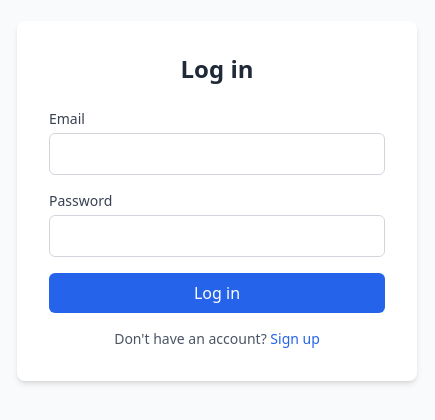
Test: LoginPage › shows an error message and does not redirect on failed login
This screenshot has width=435, height=420.
In the field labelled "Email": x=217, y=154 x1=49 y1=133 x2=385 y2=175, type "alice@example.com"
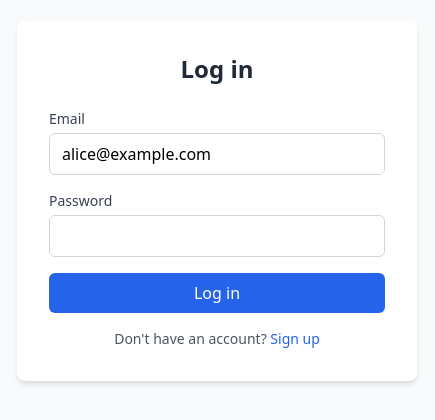
In the password field labelled "Password": x=217, y=236 x1=49 y1=215 x2=385 y2=257, type "wrongpass"
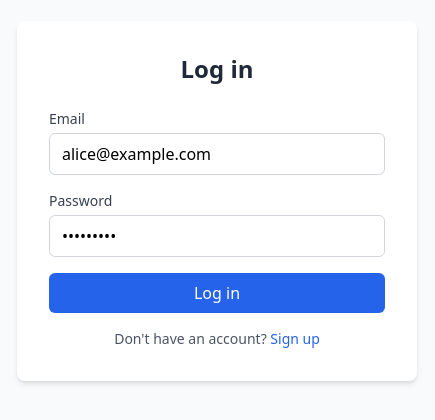
Click the button "Log in": x=217, y=293 x1=49 y1=273 x2=385 y2=313
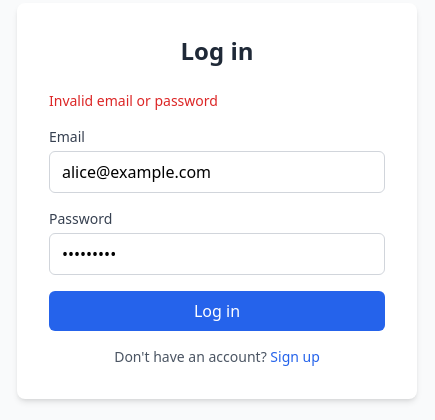
Expected: the message reads "Invalid email or password", x1=49 y1=91 x2=218 y2=110
